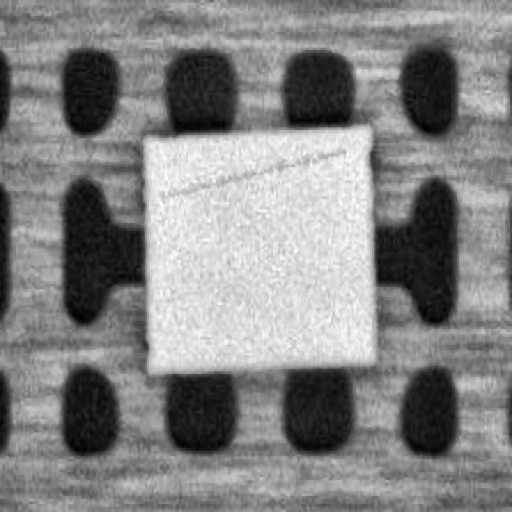DIE_CRACK: (239, 100, 512, 130)
